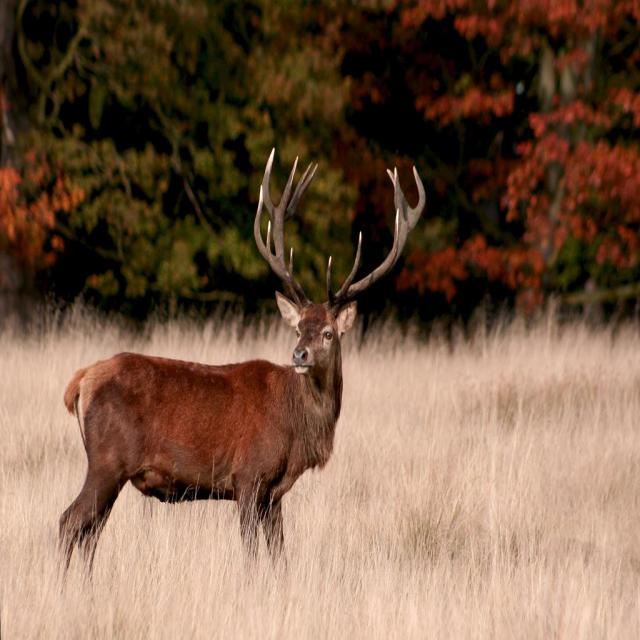Deer: (58, 151, 426, 590)
